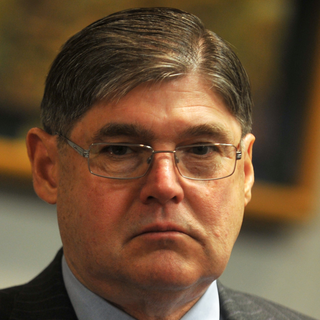eye: (96, 140, 146, 162), (179, 140, 224, 164)
